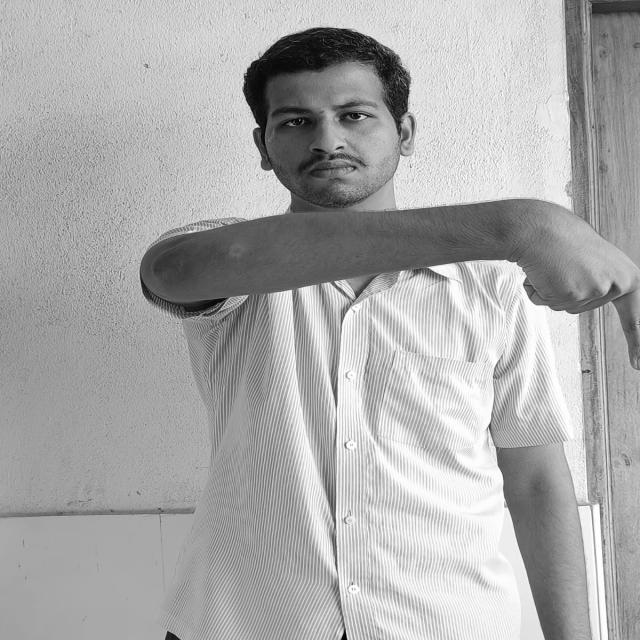Now: (512, 200, 640, 371)
